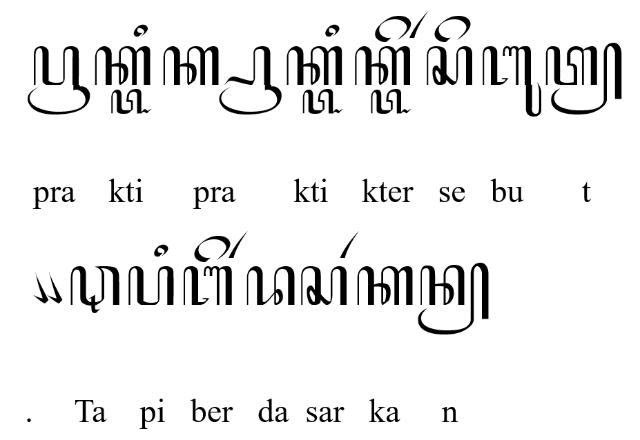-n: (418, 262, 490, 336)
-t: (546, 42, 622, 115)
T: (70, 264, 120, 314)
_pr: (219, 44, 283, 116)
_r1: (340, 230, 360, 260), (409, 10, 429, 38), (228, 232, 248, 258)
_t: (110, 88, 152, 114), (370, 89, 412, 115), (302, 88, 343, 114)
b: (183, 266, 233, 306)
bu: (482, 45, 542, 117)
d: (247, 266, 296, 306)
e: (434, 14, 472, 43), (374, 15, 412, 43), (194, 236, 232, 262)
i: (153, 244, 169, 258), (134, 24, 148, 38), (324, 24, 340, 36)
k: (95, 44, 152, 86), (162, 45, 220, 85), (286, 46, 344, 86), (356, 267, 414, 307), (355, 45, 411, 86)
kom: (46, 270, 62, 303), (32, 272, 48, 304)
p: (127, 266, 175, 308)
pr: (28, 45, 90, 115)
s: (300, 266, 348, 308), (426, 46, 472, 86)
